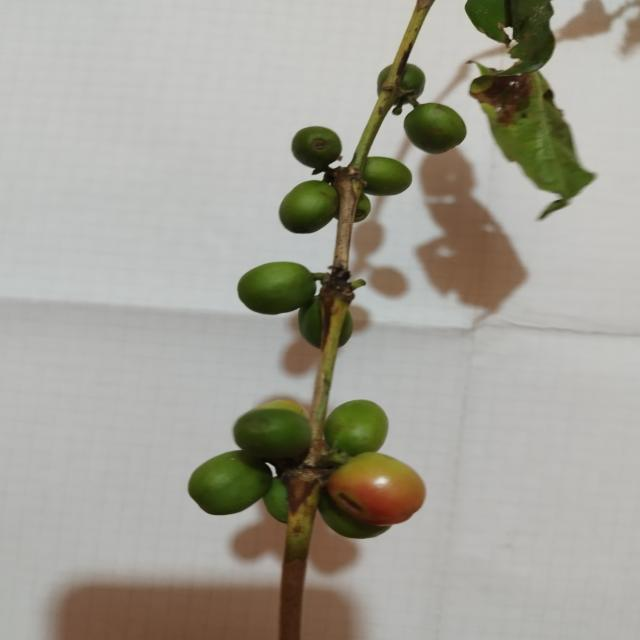Sano: (327, 453, 425, 526), (188, 450, 273, 515), (233, 399, 311, 463), (237, 262, 316, 315), (325, 400, 388, 457), (279, 180, 338, 234), (404, 103, 466, 154), (292, 126, 342, 171), (363, 157, 412, 196)
